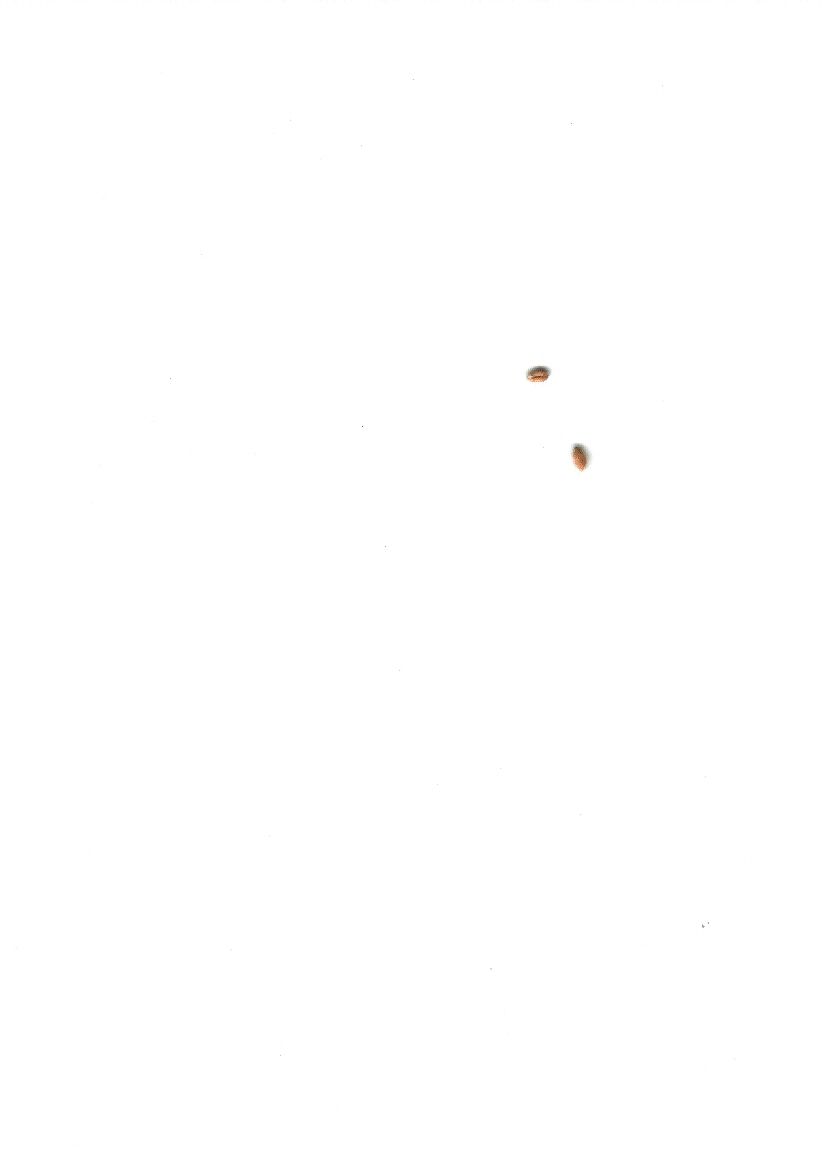grains: (562, 433, 601, 482), (523, 355, 555, 392)
